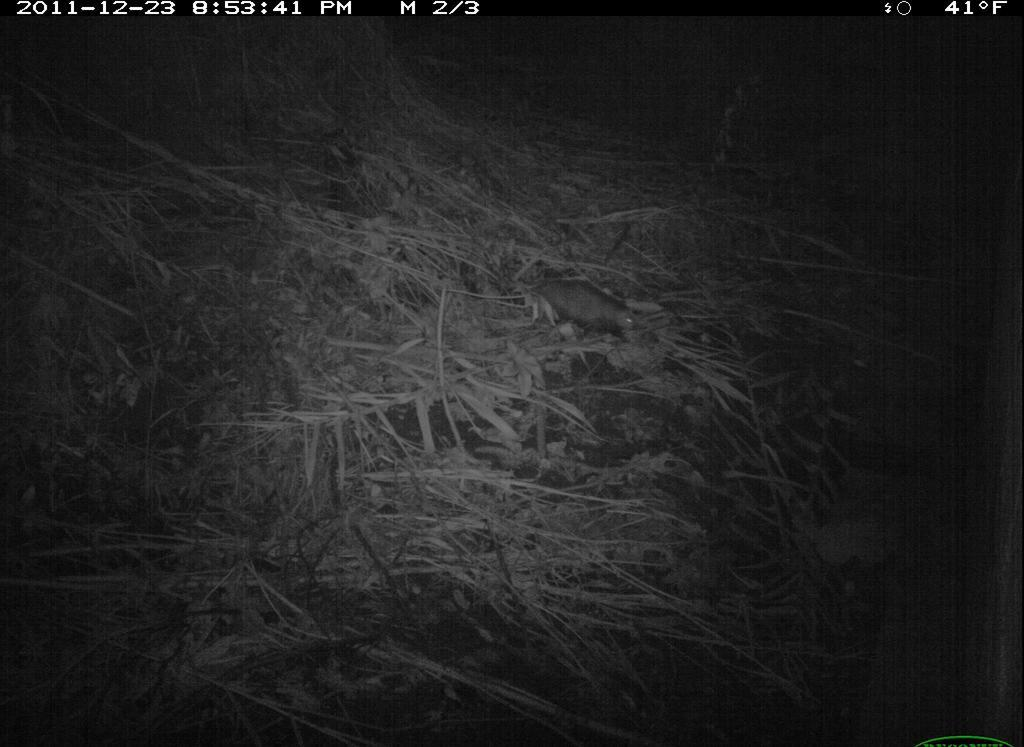opossum: (504, 255, 657, 347)
